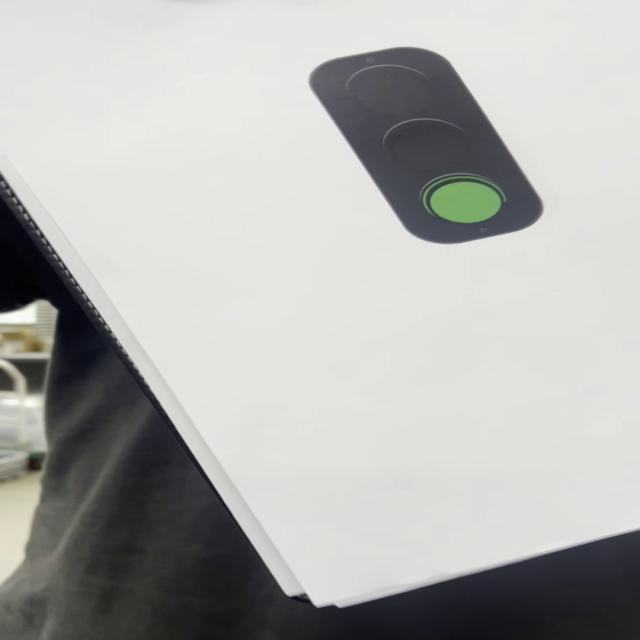green: (306, 45, 548, 248)
